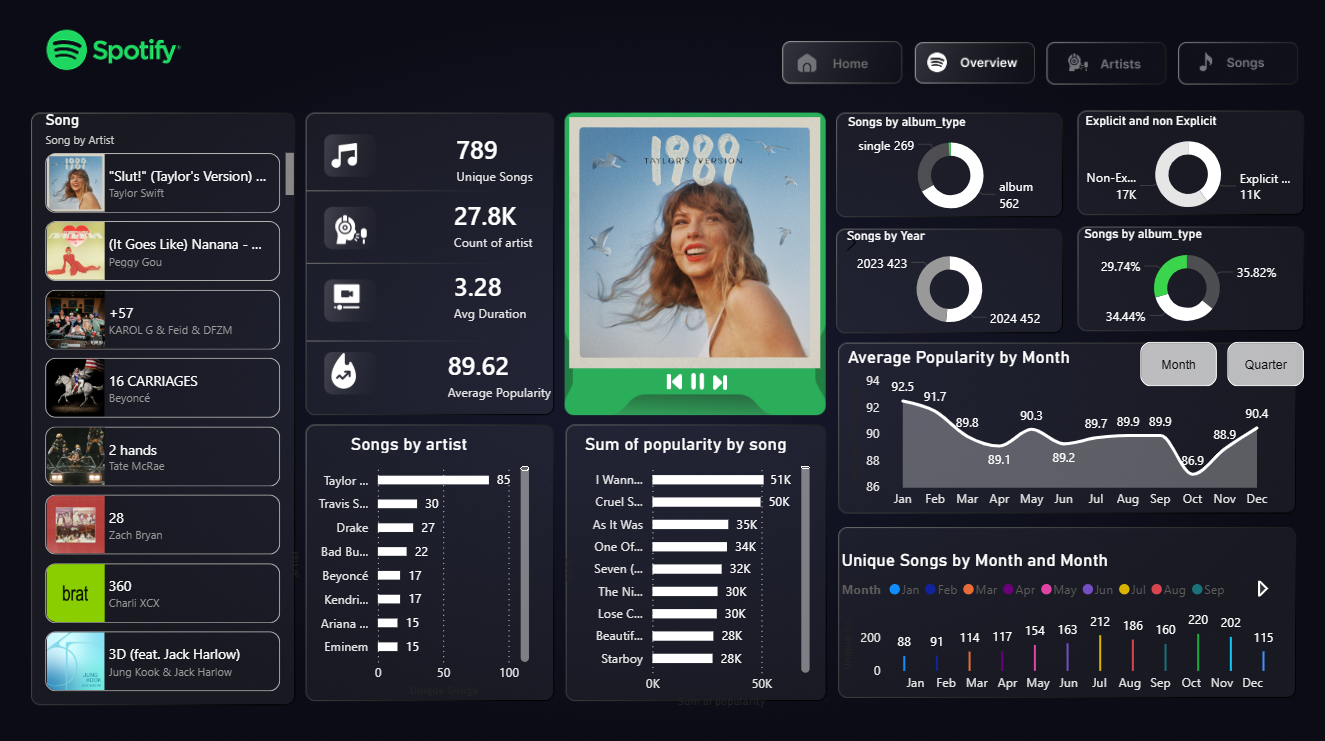

This screenshot's page, from the dashboard's own definition file:
{"tool":"powerbi","page":{"name":"Overview","canvas":[1280,720],"ordinal":1},"visuals":[{"type":"clusteredBarChart","title":"Songs by artist","fields":{"Category":["Top-50-World.artist"],"Y":["_measure.Unique Songs"]},"box":[275.6,419.3,241.6,259.9],"z":0},{"type":"clusteredBarChart","fields":{"Category":["Top-50-World.song"],"Y":["Sum(Top-50-World.popularity)"]},"box":[538.1,419.3,249.5,270.4],"z":1000},{"type":"areaChart","fields":{"Category":["Top-50-World.Month"],"Y":["_measure.Average Popularity"]},"box":[814.3,336.6,417.4,165.3],"z":2000},{"type":"advancedSlicerVisual","fields":{"Values":["Slicer_option.Slicer_option"]},"box":[1096.3,326.8,169.5,53.7],"z":3000},{"type":"donutChart","title":"Songs by album_type","fields":{"Category":["Top-50-World.album_type"],"Y":["_measure.Unique Songs"]},"box":[814.3,112.2,208.7,105],"z":4000},{"type":"donutChart","title":"Explicit and non Explicit","fields":{"Y":["_measure.Explicit Songs","_measure.Non-Explicit Songs"]},"box":[1043.6,111,208.7,105],"z":5000},{"type":"donutChart","title":"Songs by Year","fields":{"Category":["Top-50-World.Year"],"Y":["_measure.Unique Songs"]},"box":[813.7,221.6,208.7,105],"z":6000},{"type":"donutChart","title":"Songs by album_type","fields":{"Category":["Top-50-World.album_type"],"Y":["_measure.Average Popularity"]},"box":[1043,220.4,208.7,105],"z":7000},{"type":"clusteredColumnChart","fields":{"Category":["Top-50-World.Month"],"Series":["Top-50-World.Month"],"Y":["_measure.Unique Songs"]},"box":[808.5,531.7,430.5,147.6],"z":8000},{"type":"cardVisual","fields":{"Data":["CountNonNull(Top-50-World.artist)"]},"box":[410.2,172.7,164.6,92.7],"z":9000},{"type":"cardVisual","fields":{"Data":["_measure.Average Popularity"]},"box":[404.1,311.7,203.7,104.9],"z":10000},{"type":"cardVisual","fields":{"Data":["_measure.Avg Duration"]},"box":[410.2,241,164.6,92.7],"z":11000},{"type":"cardVisual","fields":{"Data":["_measure.Unique Songs"]},"box":[412.7,108,164.6,92.7],"z":12000},{"type":"image","box":[311,140.2,43.9,24.4],"z":13000},{"type":"image","box":[315.9,274.4,39,29.3],"z":14000},{"type":"image","box":[324.4,204.9,30.5,36.6],"z":15000},{"type":"image","box":[315.9,342.7,43.9,34.1],"z":16000},{"type":"advancedSlicerVisual","title":"Song ","fields":{"Values":["Top-50-World.song"]},"box":[39.8,108.6,250.9,570.6],"z":17000},{"type":"advancedSlicerVisual","title":"Song ","fields":{"Values":["Top-50-World.song"]},"box":[505.5,108.6,333,255.8],"z":18000},{"type":"image","box":[677.8,363.4,36.2,15.7],"z":19000},{"type":"image","box":[639.2,362.2,24.1,16.9],"z":20000},{"type":"image","box":[663.5,361.9,21.7,15.7],"z":21000},{"type":"actionButton","box":[756.6,44.2,115.9,37.4],"z":22000},{"type":"actionButton","box":[884.8,44.2,115.9,37.4],"z":23000},{"type":"actionButton","box":[1013.2,44.3,115.8,37.4],"z":24000},{"type":"actionButton","box":[1138.4,44.3,115.8,37.4],"z":25000}]}

Visuals, with their boxes in screenshot pixels (x1, y1, x2, y2), scaled from the page's 1280x720 canvas onto the 1325x741 screenshot:
"Songs by artist" clusteredBarChart: [285, 432, 535, 699]
clusteredBarChart - Top-50-World.song x Sum(Top-50-World.popularity): [557, 432, 815, 710]
areaChart - Top-50-World.Month x _measure.Average Popularity: [843, 346, 1275, 517]
advancedSlicerVisual - Slicer_option.Slicer_option: [1135, 336, 1310, 392]
"Songs by album_type" donutChart: [843, 115, 1059, 224]
"Explicit and non Explicit" donutChart: [1080, 114, 1296, 222]
"Songs by Year" donutChart: [842, 228, 1058, 336]
"Songs by album_type" donutChart: [1080, 227, 1296, 335]
clusteredColumnChart - Top-50-World.Month x Top-50-World.Month: [837, 547, 1283, 699]
cardVisual - CountNonNull(Top-50-World.artist): [425, 178, 595, 273]
cardVisual - _measure.Average Popularity: [418, 321, 629, 429]
cardVisual - _measure.Avg Duration: [425, 248, 595, 343]
cardVisual - _measure.Unique Songs: [427, 111, 598, 207]
image: [322, 144, 367, 169]
image: [327, 282, 367, 313]
image: [336, 211, 367, 249]
image: [327, 353, 372, 388]
"Song " advancedSlicerVisual: [41, 112, 301, 699]
"Song " advancedSlicerVisual: [523, 112, 868, 375]
image: [702, 374, 739, 390]
image: [662, 373, 687, 390]
image: [687, 372, 709, 389]
actionButton: [783, 45, 903, 84]
actionButton: [916, 45, 1036, 84]
actionButton: [1049, 46, 1169, 84]
actionButton: [1178, 46, 1298, 84]
